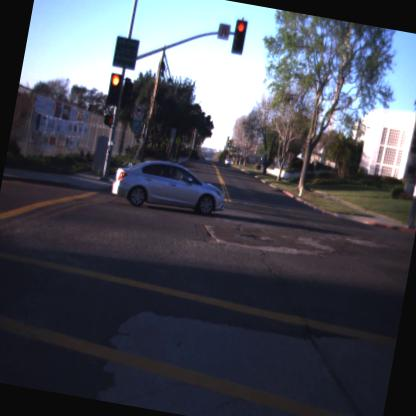trafficlight: (104, 70, 126, 113), (228, 18, 249, 56)
